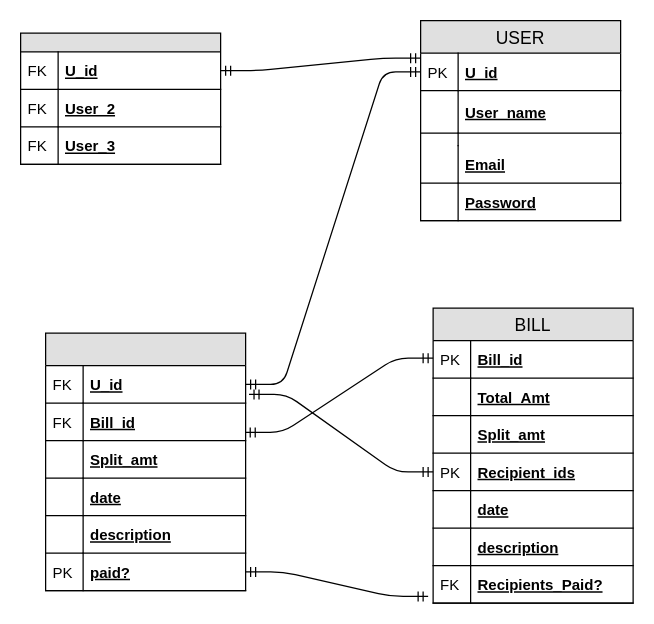
This 654x624 diagram has some shape labels left out. The shapes that lost their labels are listed below. From the top down, each one's box as (x1, y1, x2, y2) in pixels, then its label:
(19, 32, 221, 164): FRIENDS_LIST
(44, 332, 246, 591): User_Bill
